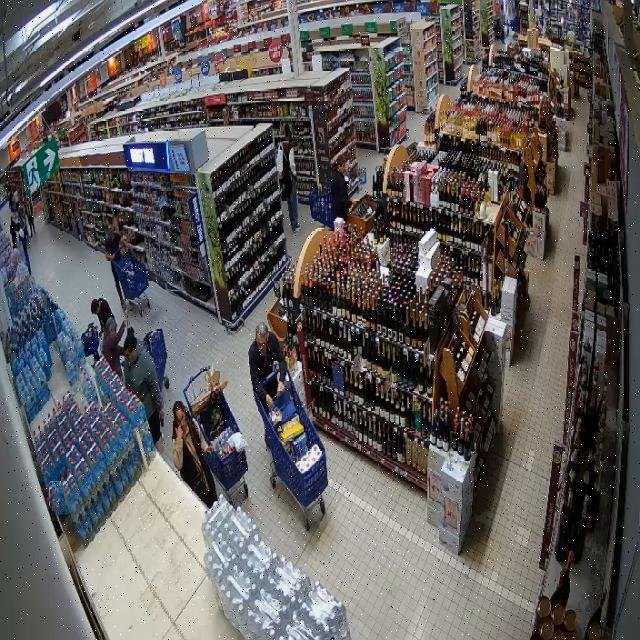bags: (194, 472, 209, 503), (280, 174, 292, 201)
hands: (266, 394, 274, 410), (277, 382, 284, 397), (177, 425, 184, 440), (122, 242, 130, 252), (206, 444, 213, 453), (105, 254, 113, 261), (278, 171, 284, 180), (160, 408, 164, 421)
person: (124, 328, 163, 452), (172, 401, 217, 507), (249, 323, 286, 408), (277, 124, 299, 233), (106, 226, 127, 308), (102, 317, 125, 377), (331, 164, 350, 221), (91, 298, 114, 334)
